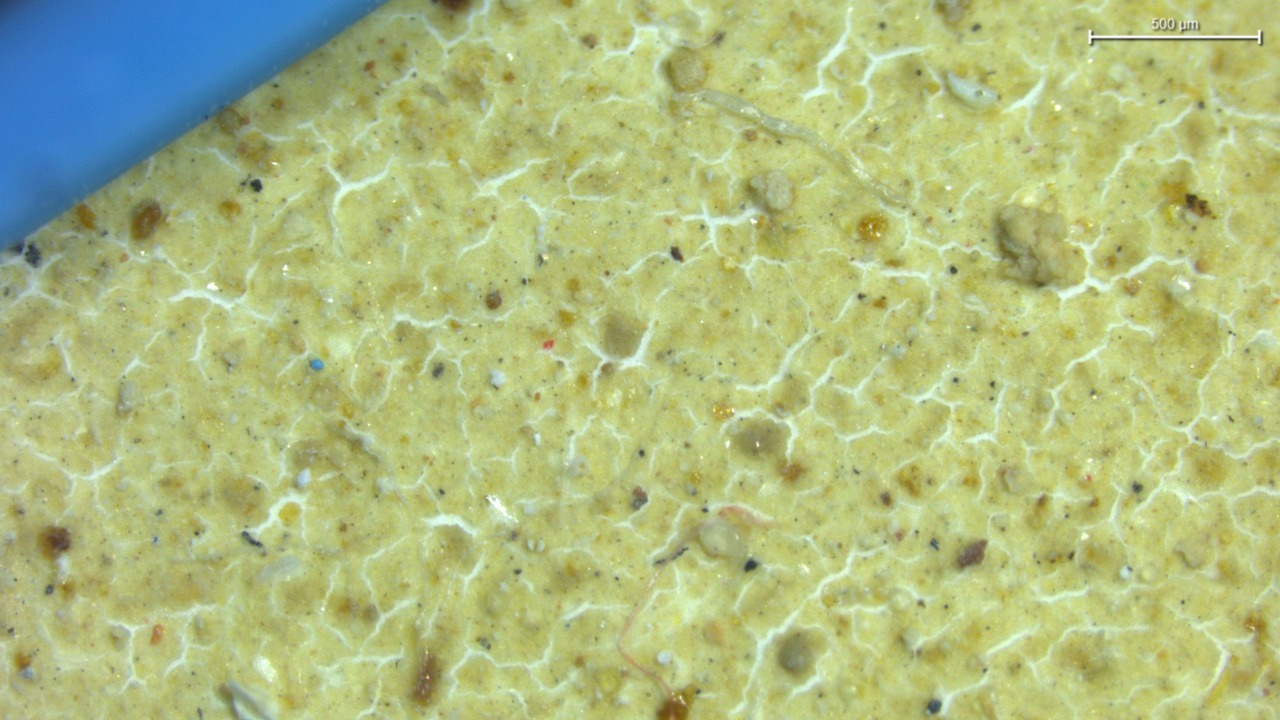microplastic_fragment: (999, 206, 1088, 289), (754, 169, 792, 214)
